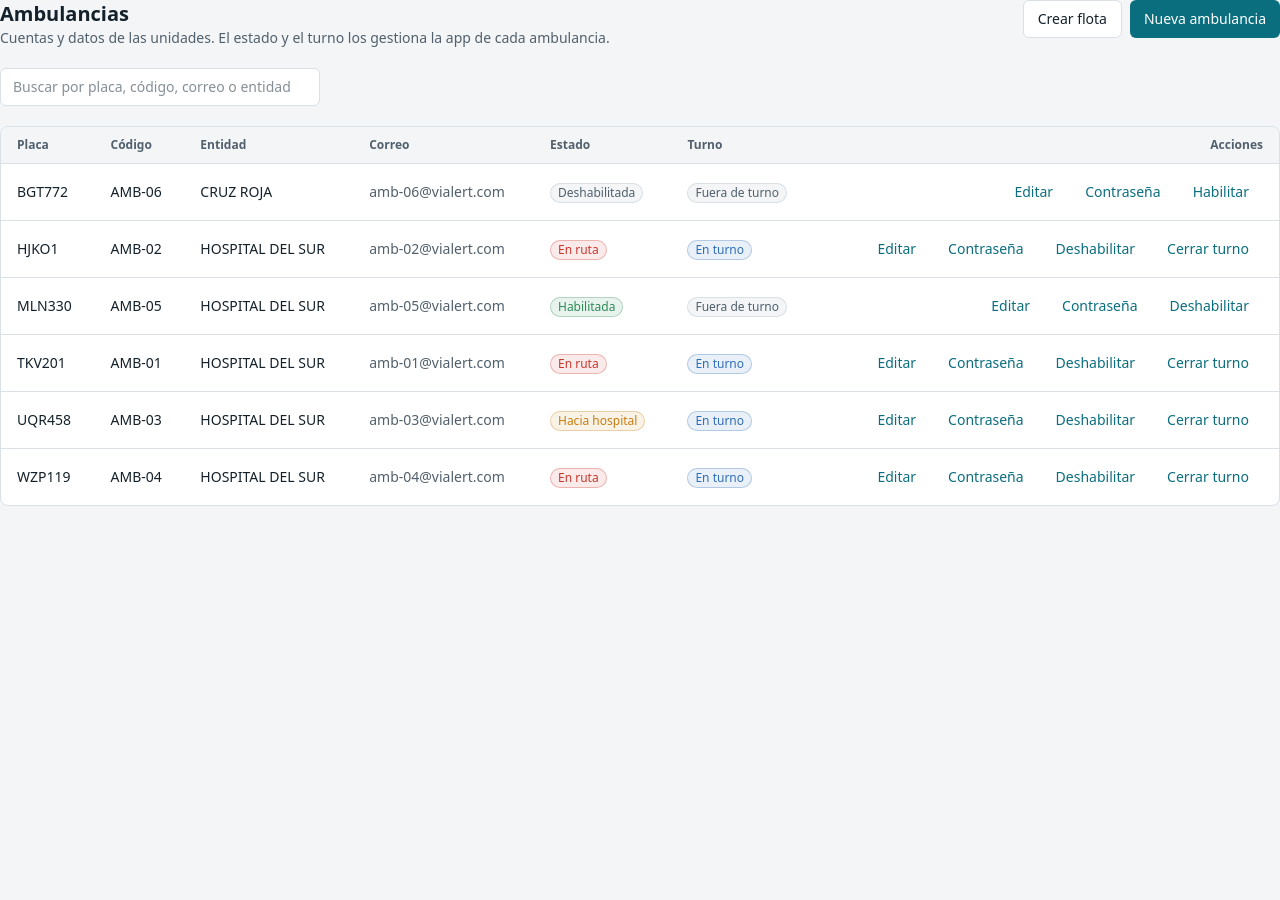
Test: AmbulancesPage › muestra el aviso del conflicto (409) cuando la unidad tiene una alerta en curso
Click the button with aria-label "Cerrar turno de HJKO1".
click(1208, 249)  # box [1153, 231, 1263, 267]
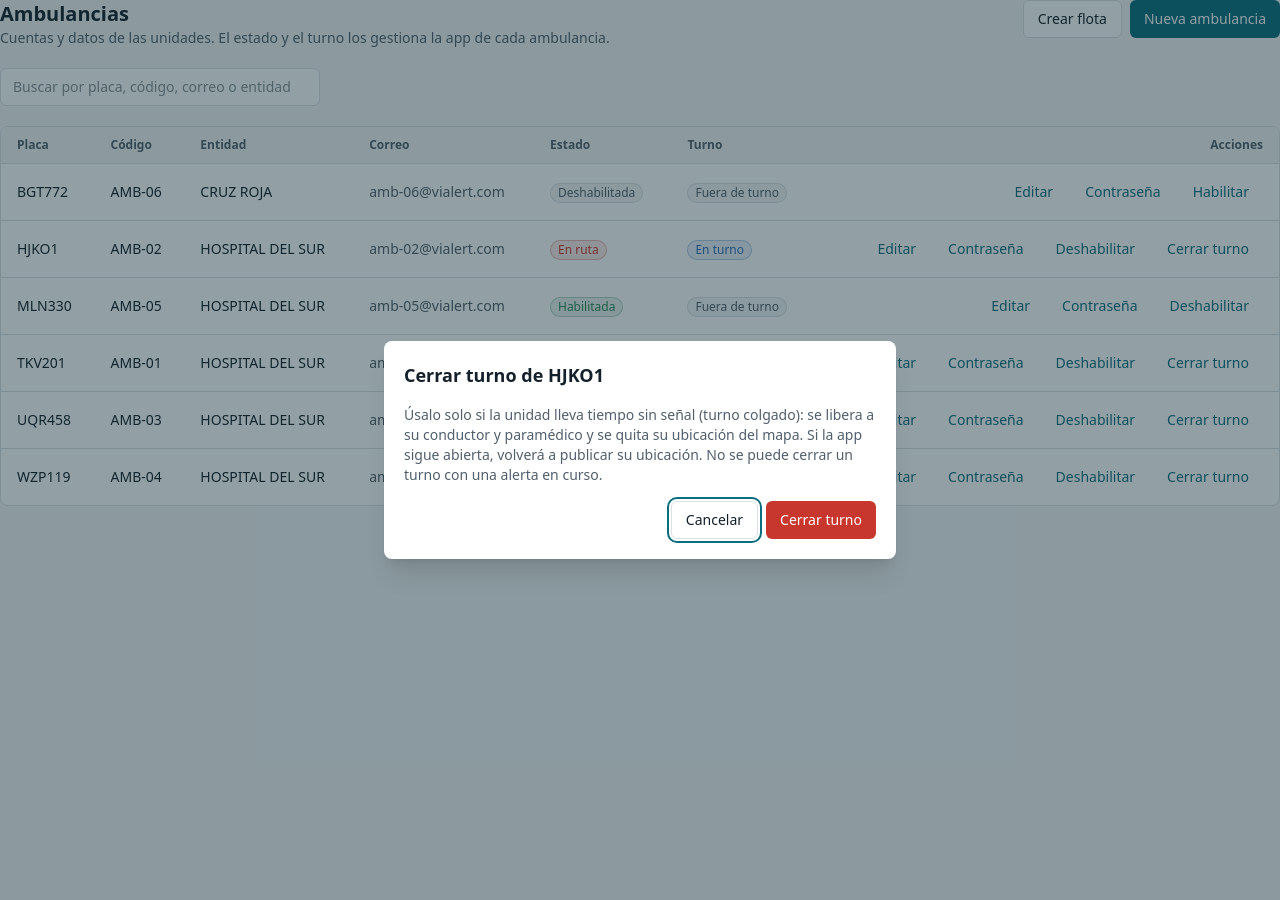
Click the button "Cerrar turno".
click(821, 520)  # box [766, 501, 876, 539]
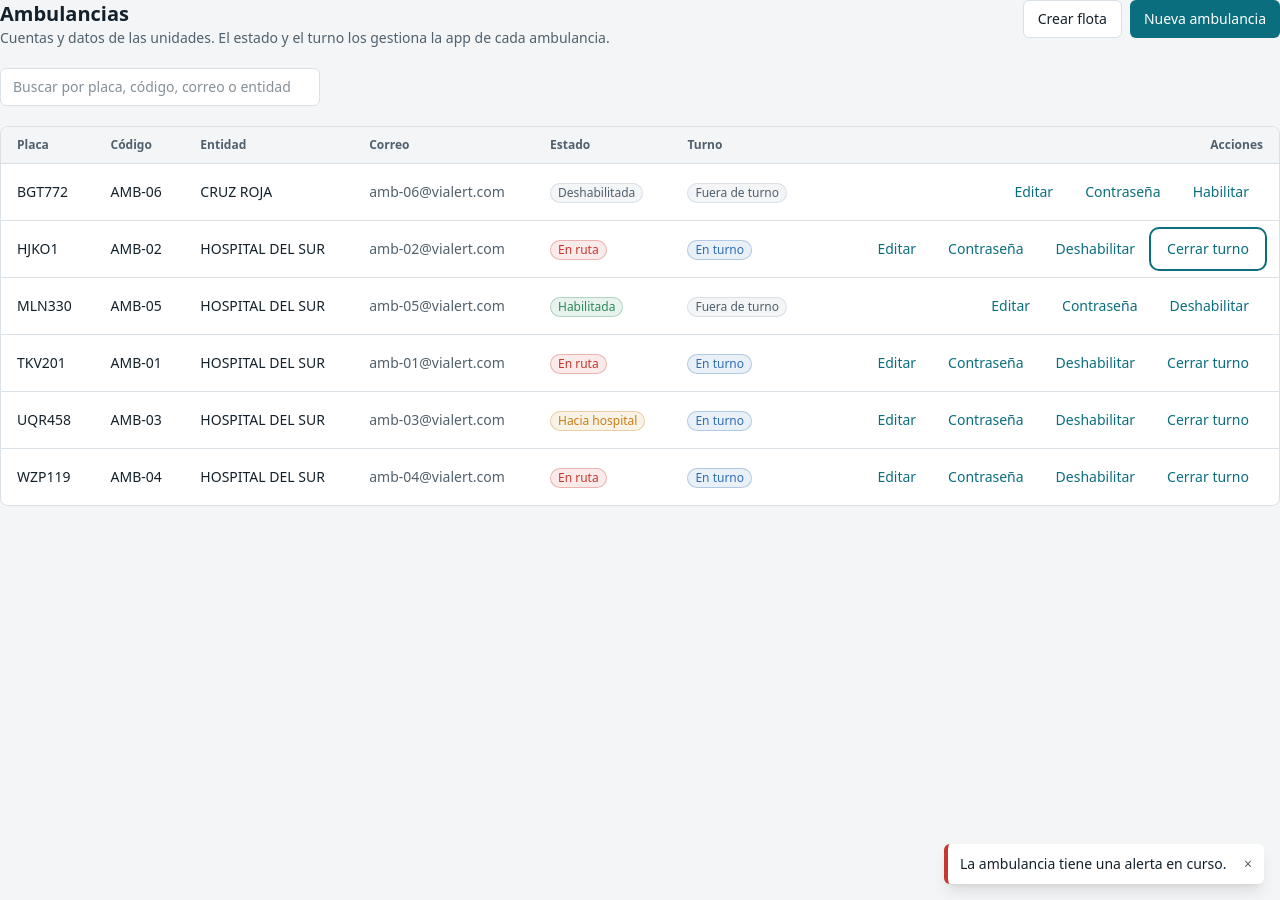
Check: the text "En turno" in the row of "HJKO1" is shown, box [695, 240, 744, 258]
Check: the text "La ambulancia tiene una alerta en curso." is shown, box [960, 854, 1226, 874]
Check: the heading "Cerrar turno de HJKO1" is gone
